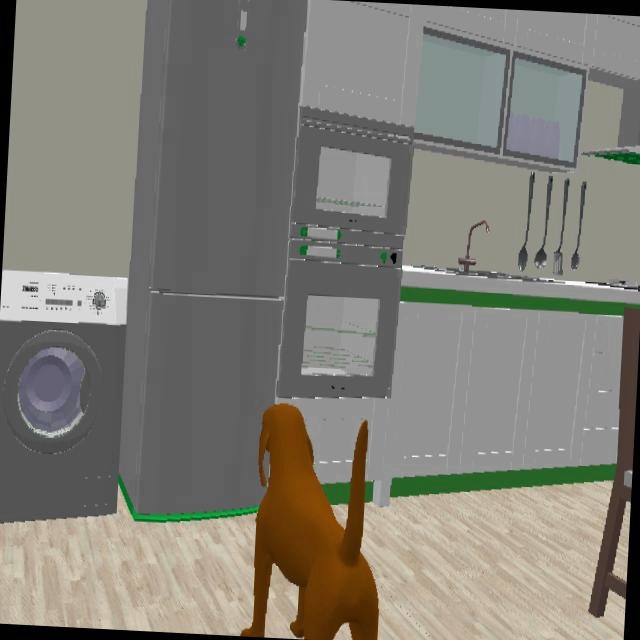cabinet: (281, 303, 622, 495), (303, 0, 640, 172)
countertop: (402, 267, 640, 315)
fridge: (119, 0, 307, 516)
microwave: (292, 108, 413, 246)
oven: (277, 239, 402, 398)
sink: (455, 220, 522, 278)
stove: (610, 279, 636, 287)
